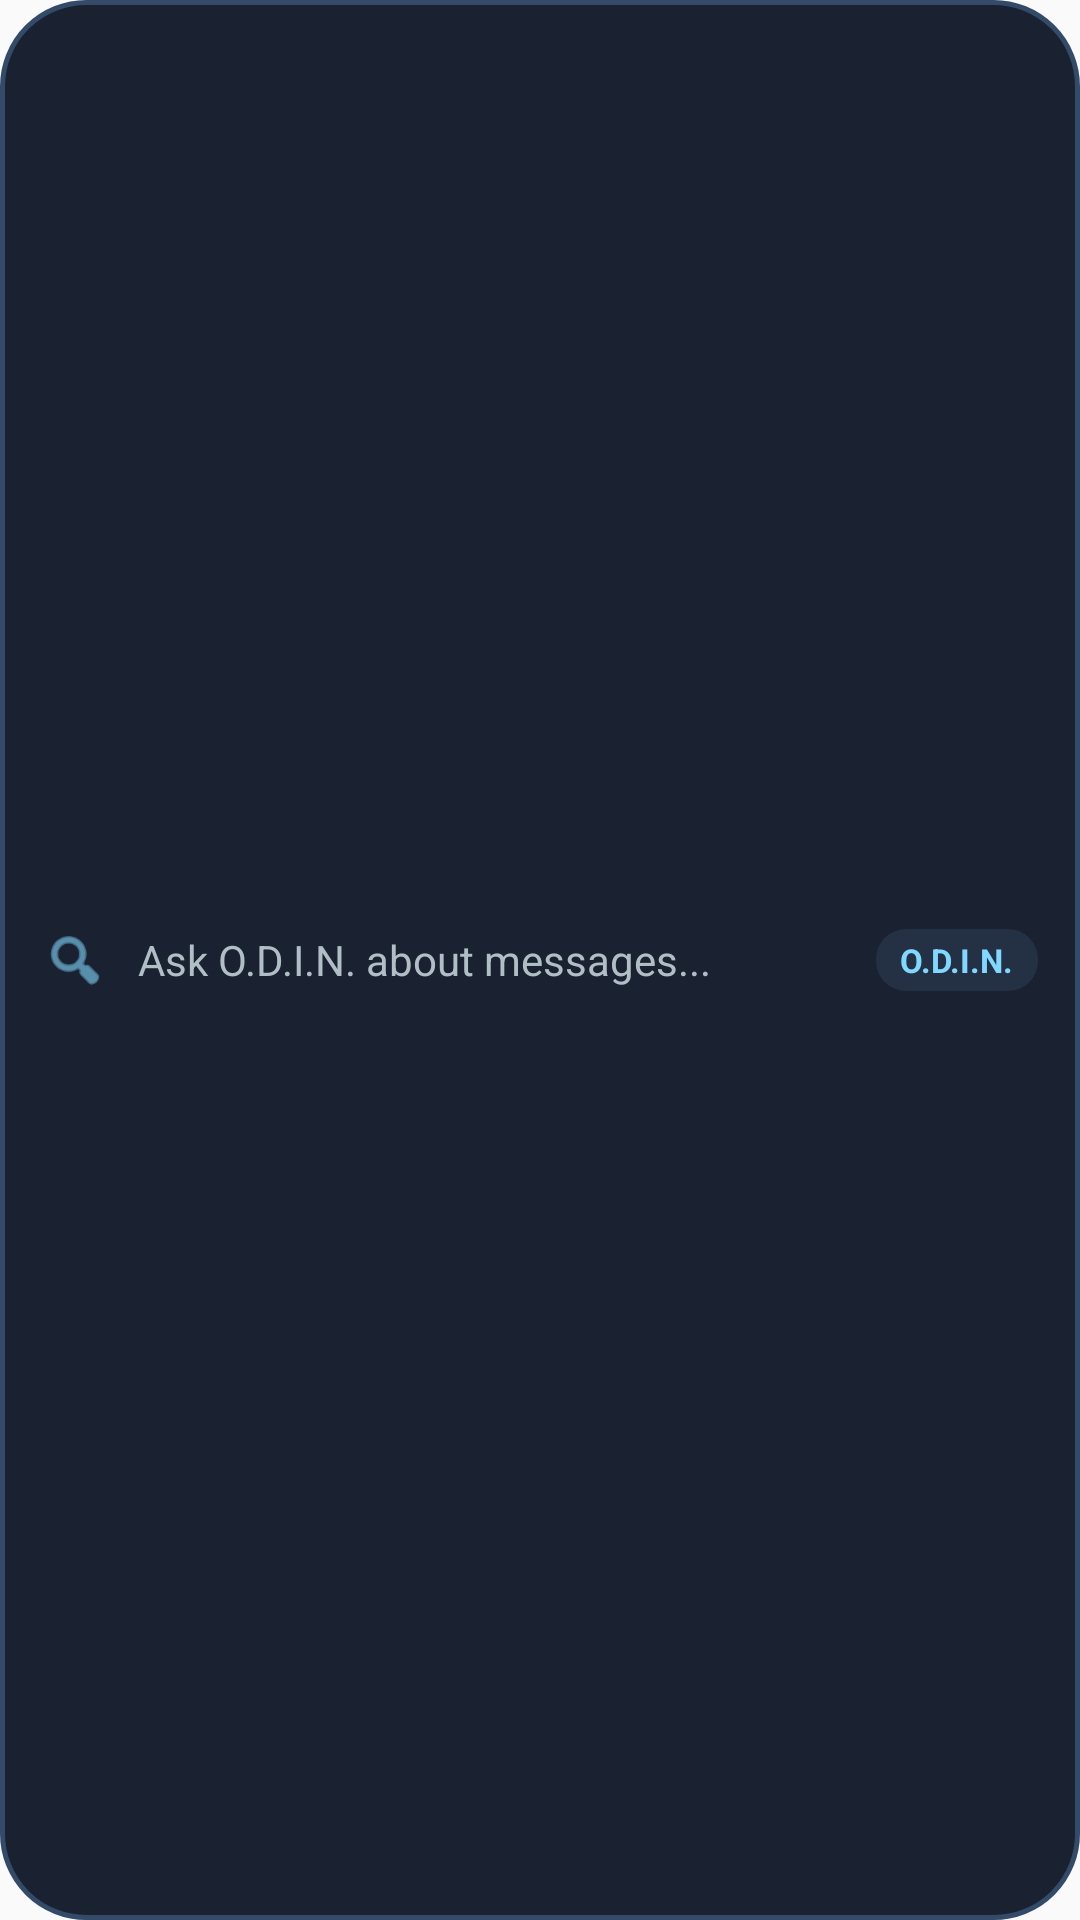

Point at icon controls on the screen. Image size 1080*1920, points as (x,y).
search: (75,960)
